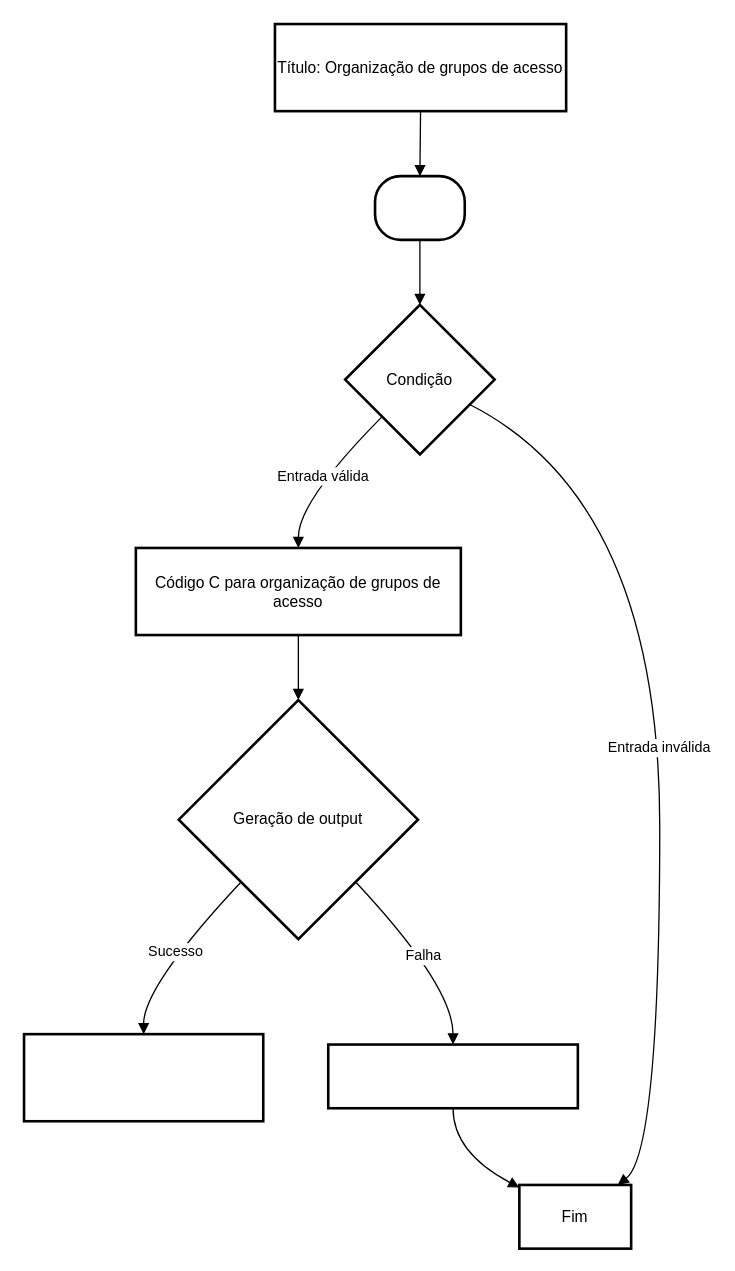
Image size: 735x1271. Some labels were removed from this diagram. The centre of each missing label's shape, as x and y in pixels:
"Grupos de acesso organizados" belongs at (143,1077).
"Início" belongs at (419,207).
"Mensagem de erro" belongs at (452,1076).
